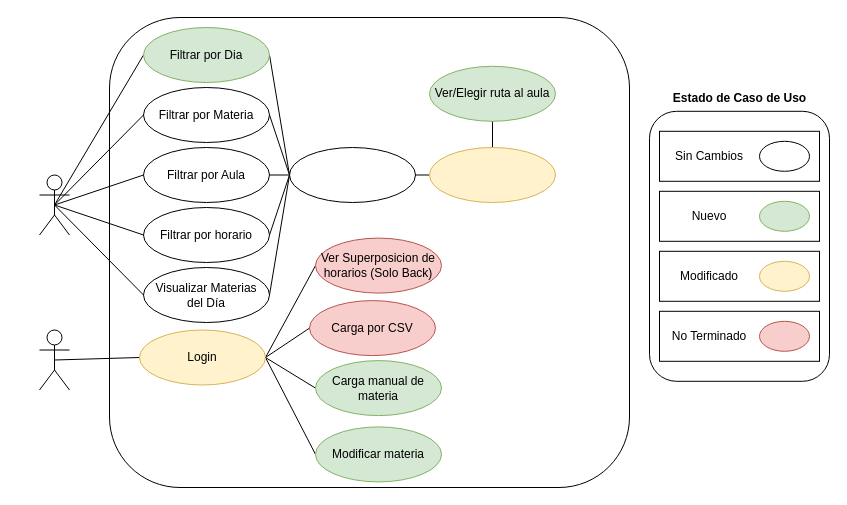
Some shapes in this 847 by 505 pixel diagram are drawn without their labels. The shapes that lost their labels are listed below. From the top down, each one's centre as x and y in pixels, then its label:
(x=352, y=174): Visualizacion de las Materias
(x=492, y=174): Ver Ubicación del aula
(x=54, y=204): Estudiante
(x=54, y=359): Administrador
